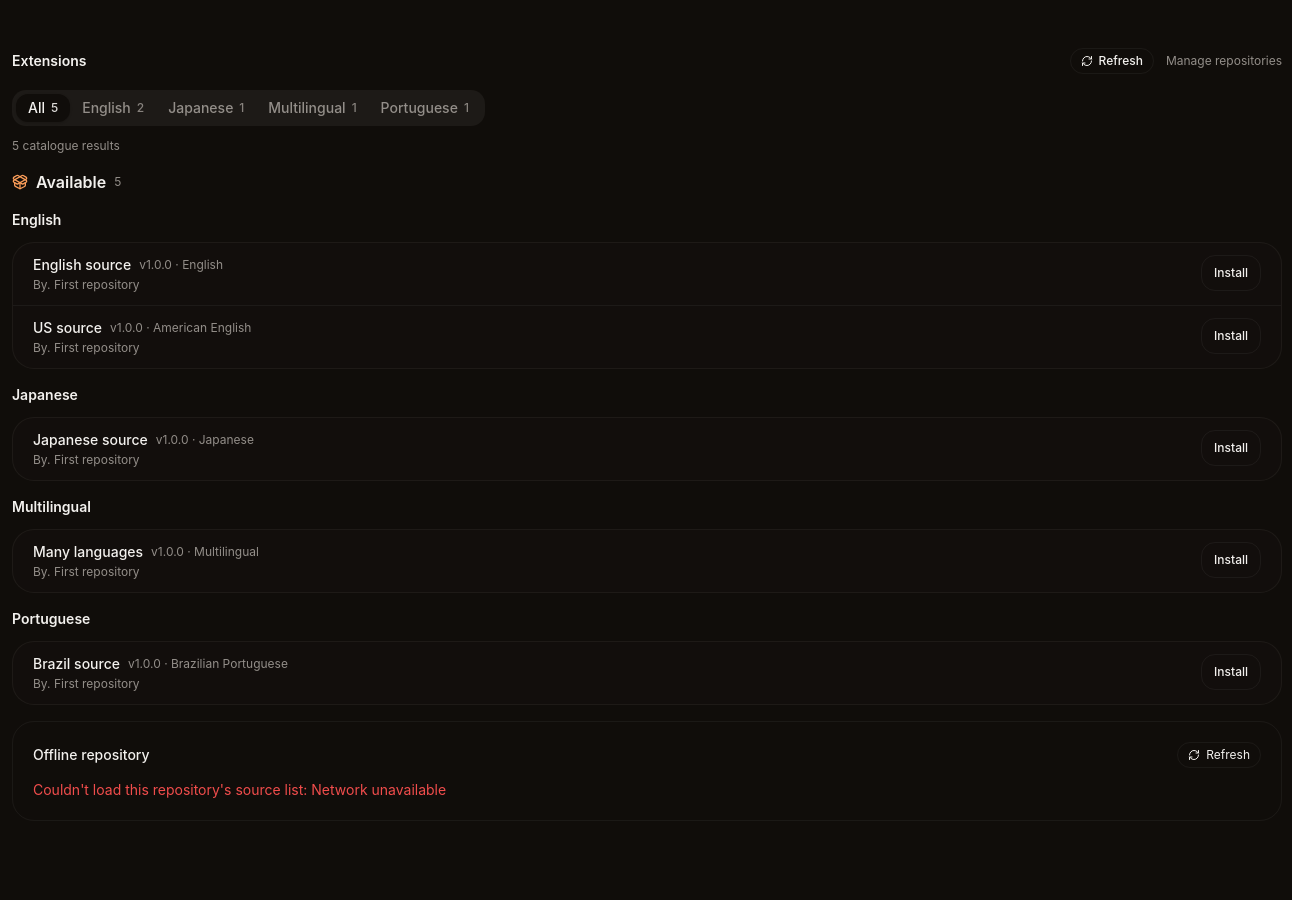
it: Extension catalogue language sections › filters via accessible tabs and supports keyboard navigation
Click the tab "Japanese 1".
click(206, 108)  # box [156,94,256,122]
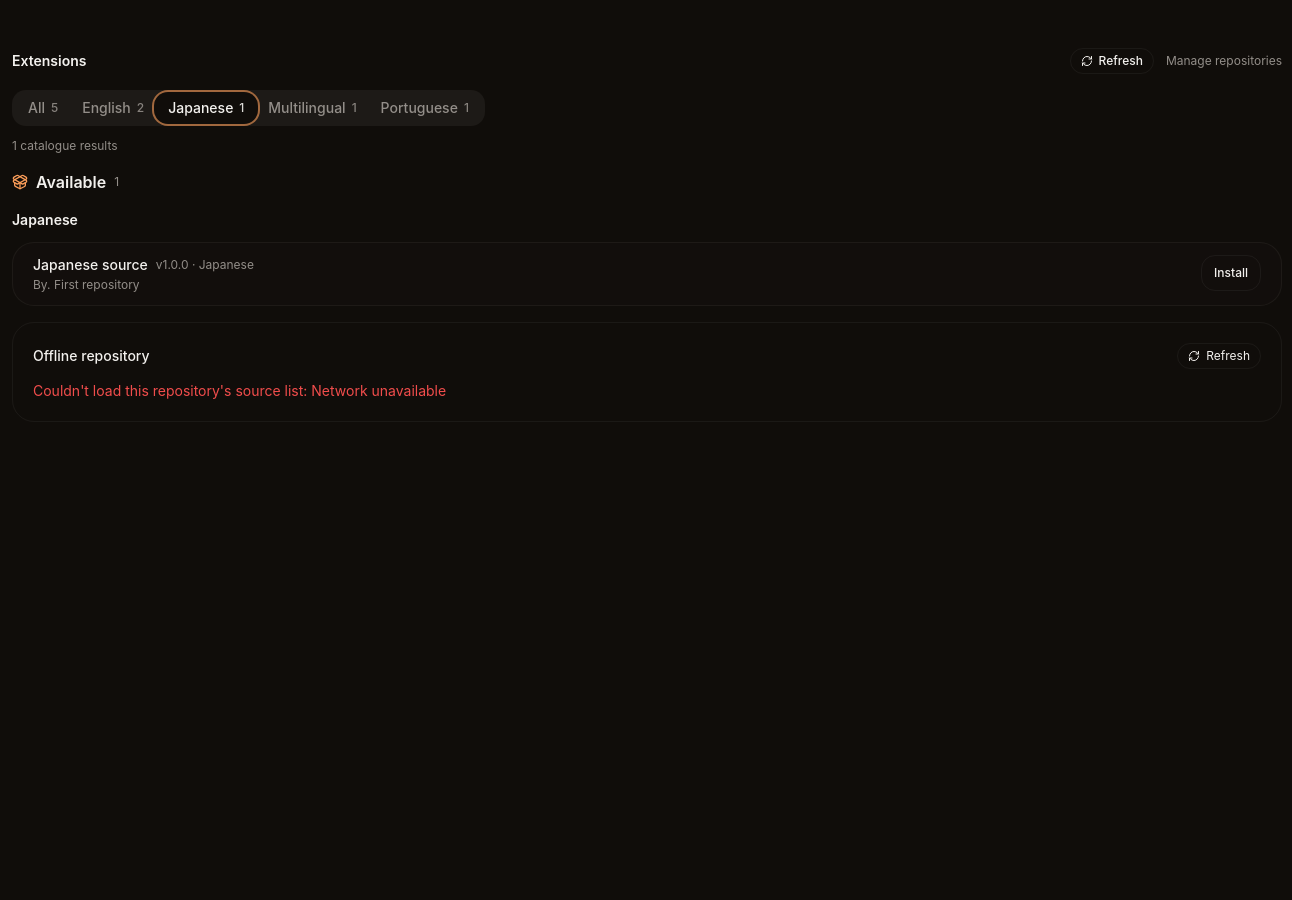
Expected: the text "Japanese source" is shown, [33,255,148,275]
Result: the text "English source" is gone
Result: the message reads "1 catalogue results" at [12,138,118,153]
Press Home
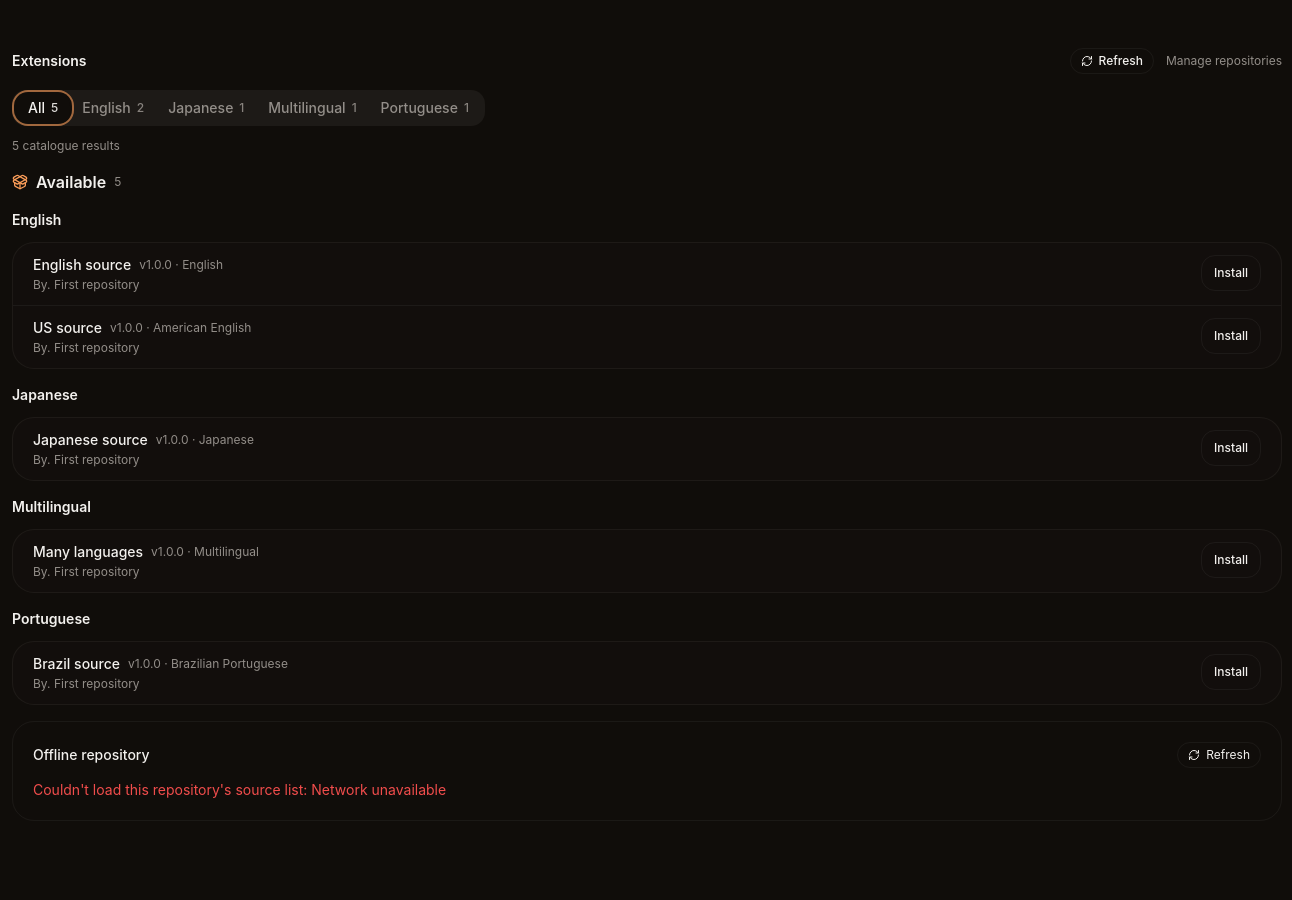
Result: the text "English source" is shown at [33,255,131,275]
